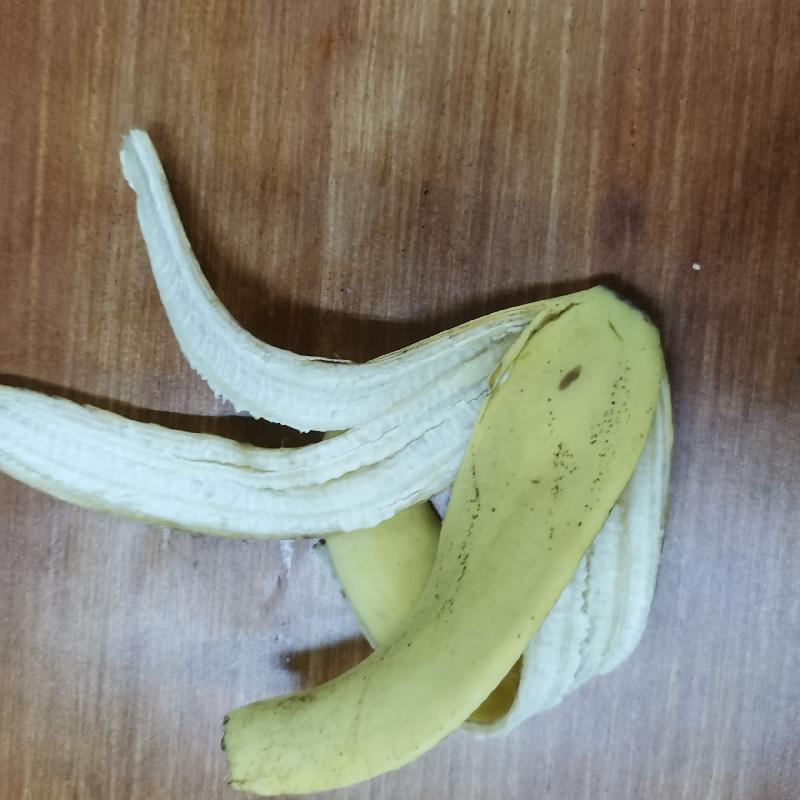bananas: (4, 122, 681, 796)
